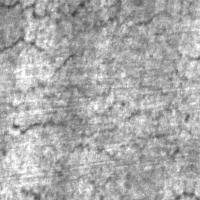crazing: (0, 33, 128, 157), (0, 88, 180, 175), (0, 0, 154, 73), (52, 0, 187, 47)
